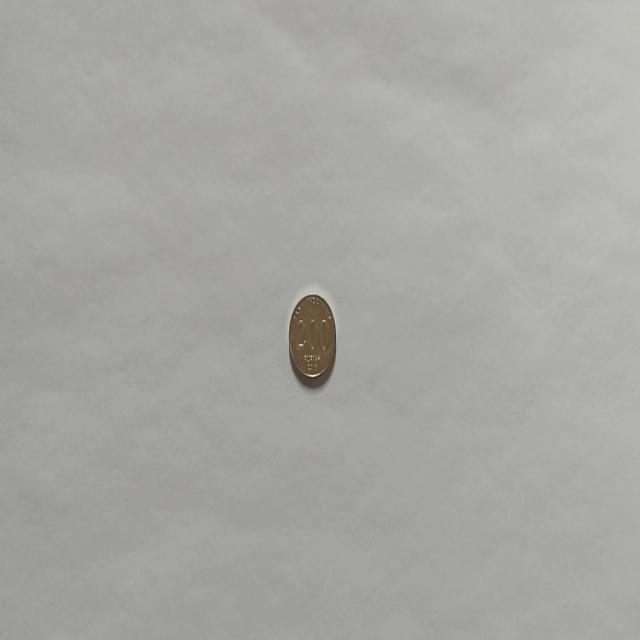dua ratus rupiah: (287, 292, 337, 384)
